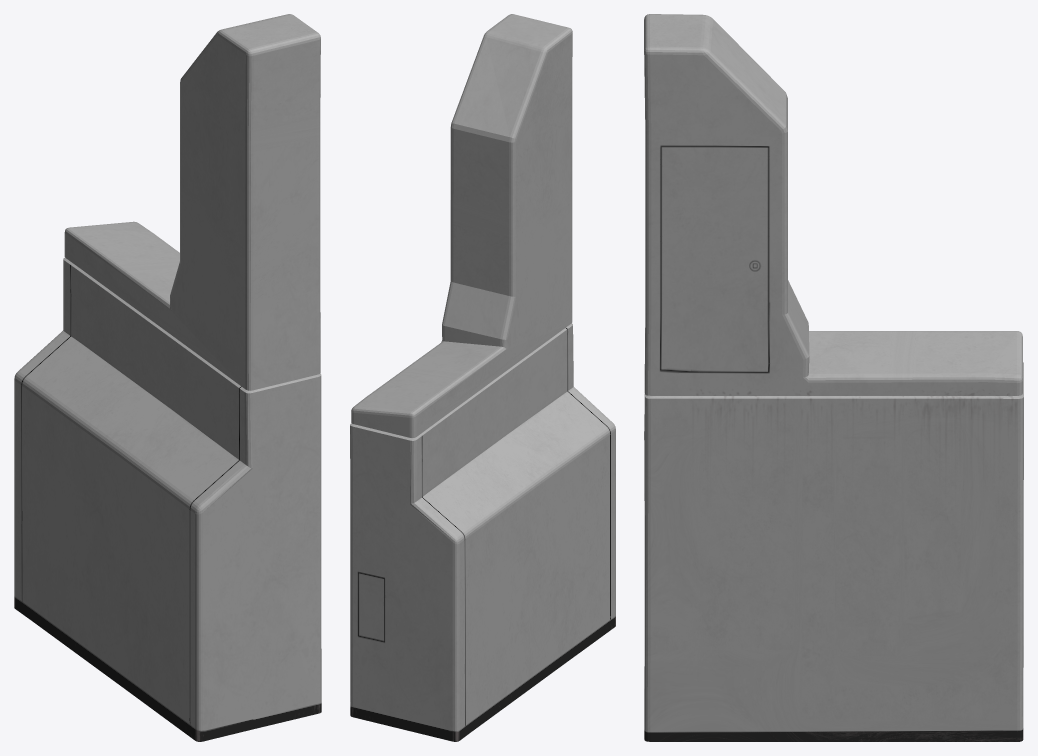
The model's file is prop_turnstile_a_end.FBX.
The picture shows the model from 3 angles, left to right: view 1: azimuth 30°, elevation 25°; view 2: azimuth 150°, elevation 25°; view 3: azimuth 270°, elevation 25°; orthographic projection. The views are drawn at different scales.
Visible parts, largest first — view 1: prop_turnstile_a_end; view 2: prop_turnstile_a_end; view 3: prop_turnstile_a_end.
Part boxes in pixels (<box>): prop_turnstile_a_end: <box>14,14,321,741</box>; prop_turnstile_a_end: <box>350,14,615,741</box>; prop_turnstile_a_end: <box>644,14,1023,741</box>.
Bounding box in the file's own units: 0.5225 × 2.7 × 1.34.
Materials: 1 (1 with a texture image).
